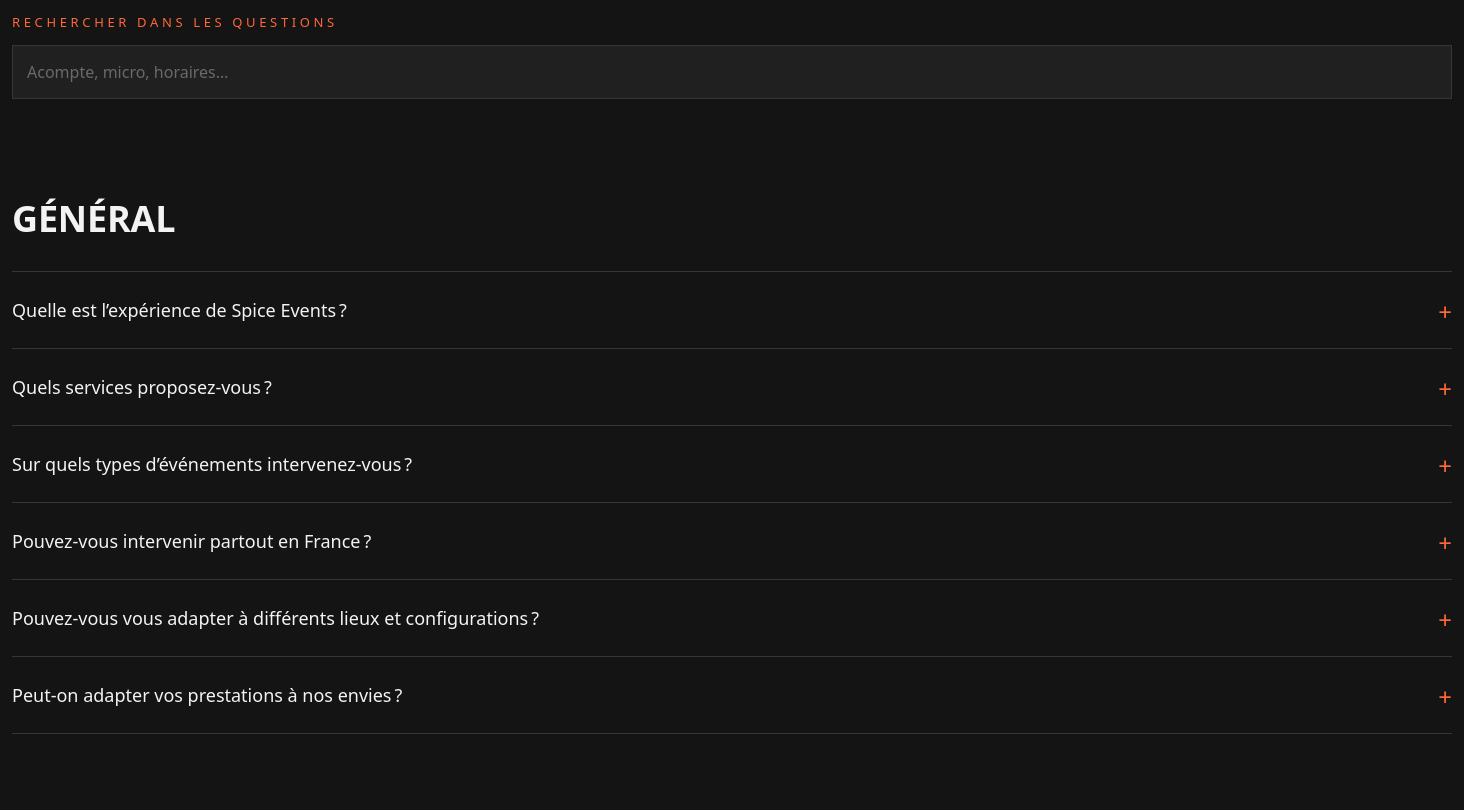
Test: FaqFiltrable › aucun résultat : message et lien vers le contact ; le bouton efface la recherche
This screenshot has width=1464, height=810.
Step 1. Type "xylophone" into the search field labelled "Rechercher dans les questions" → (732, 72), box [12, 45, 1452, 99]
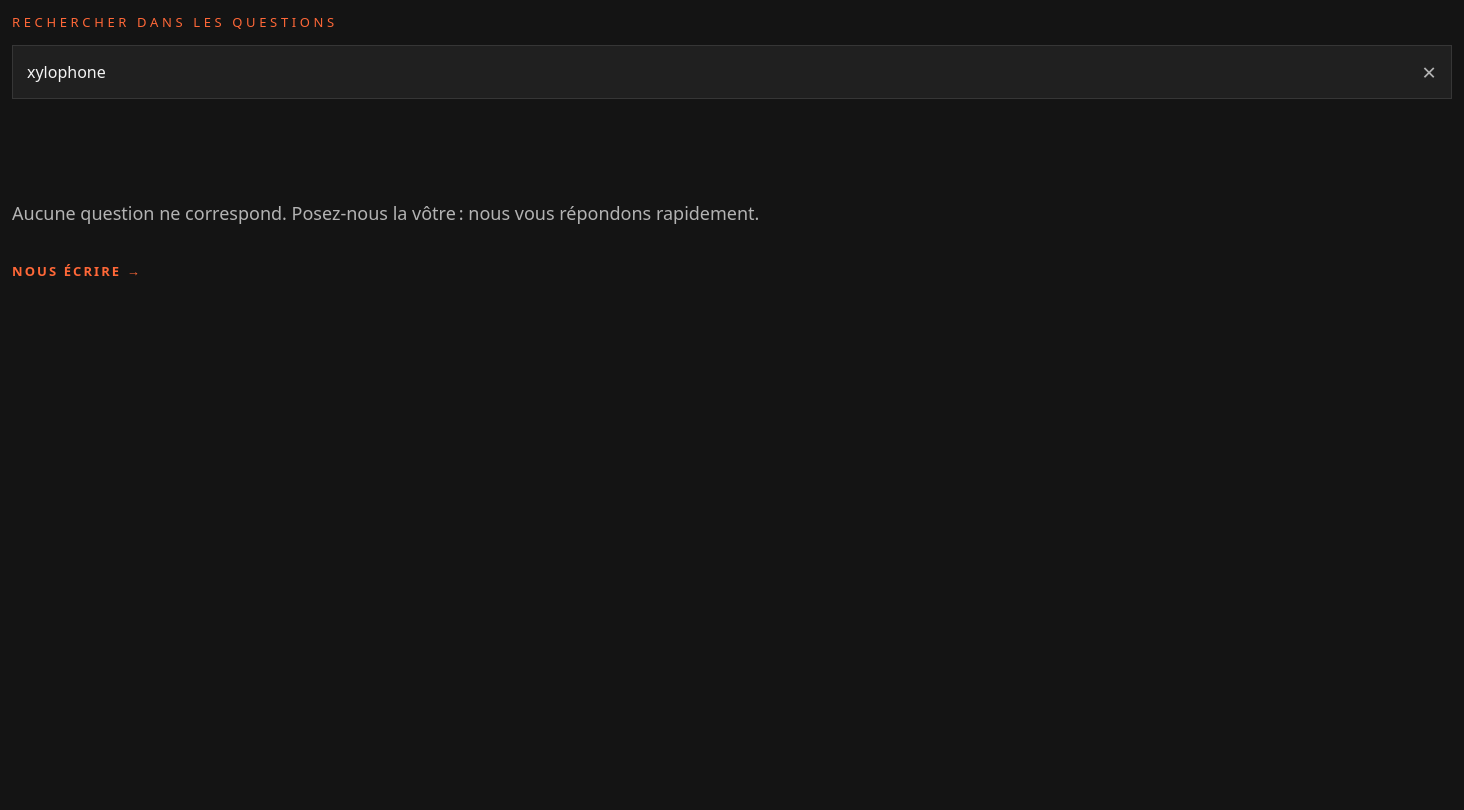
Check: the text "Aucune question ne correspond. Posez-nous la vôtre : nous vous répondons rapidement." is shown, box [12, 201, 760, 225]
Step 2. Click the button named "Effacer la recherche" → (1429, 72), box [1406, 45, 1452, 99]
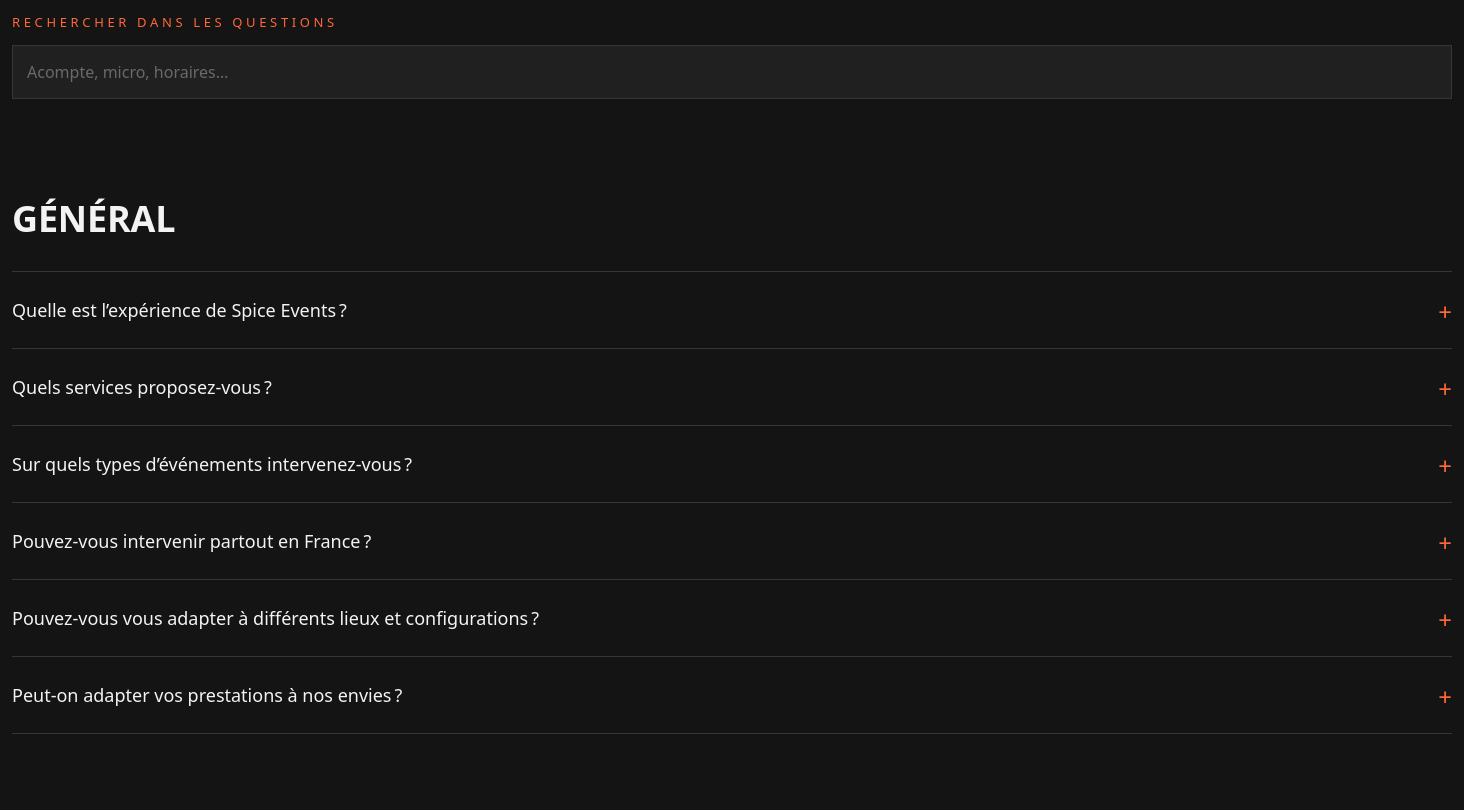
Check: the search field labelled "Rechercher dans les questions" is empty, box [12, 45, 1452, 99]
